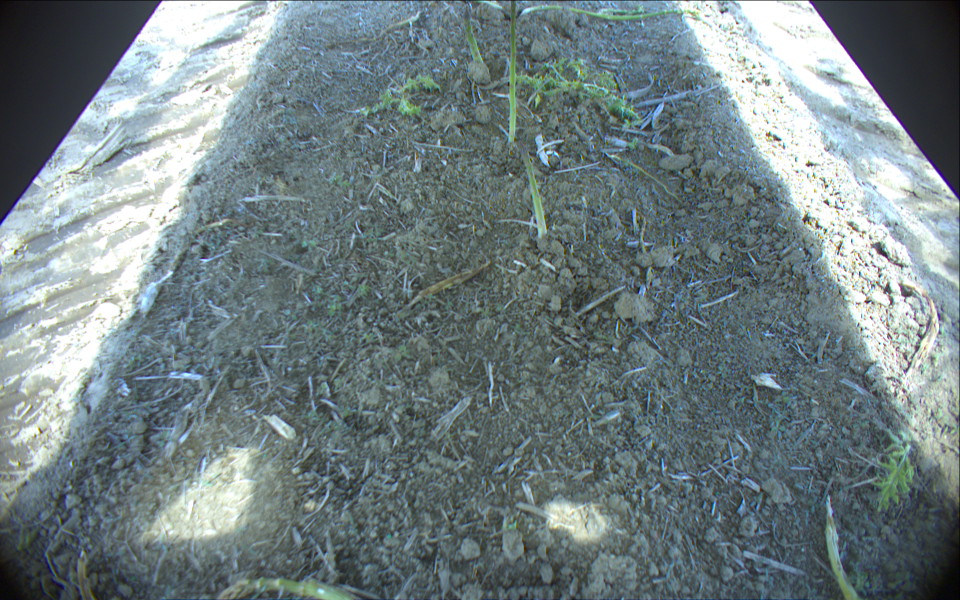aspa: (320, 10, 420, 51), (825, 495, 862, 597), (520, 3, 710, 21), (215, 578, 361, 600), (517, 138, 547, 240), (507, 1, 519, 143), (462, 6, 483, 64), (598, 3, 646, 14)
